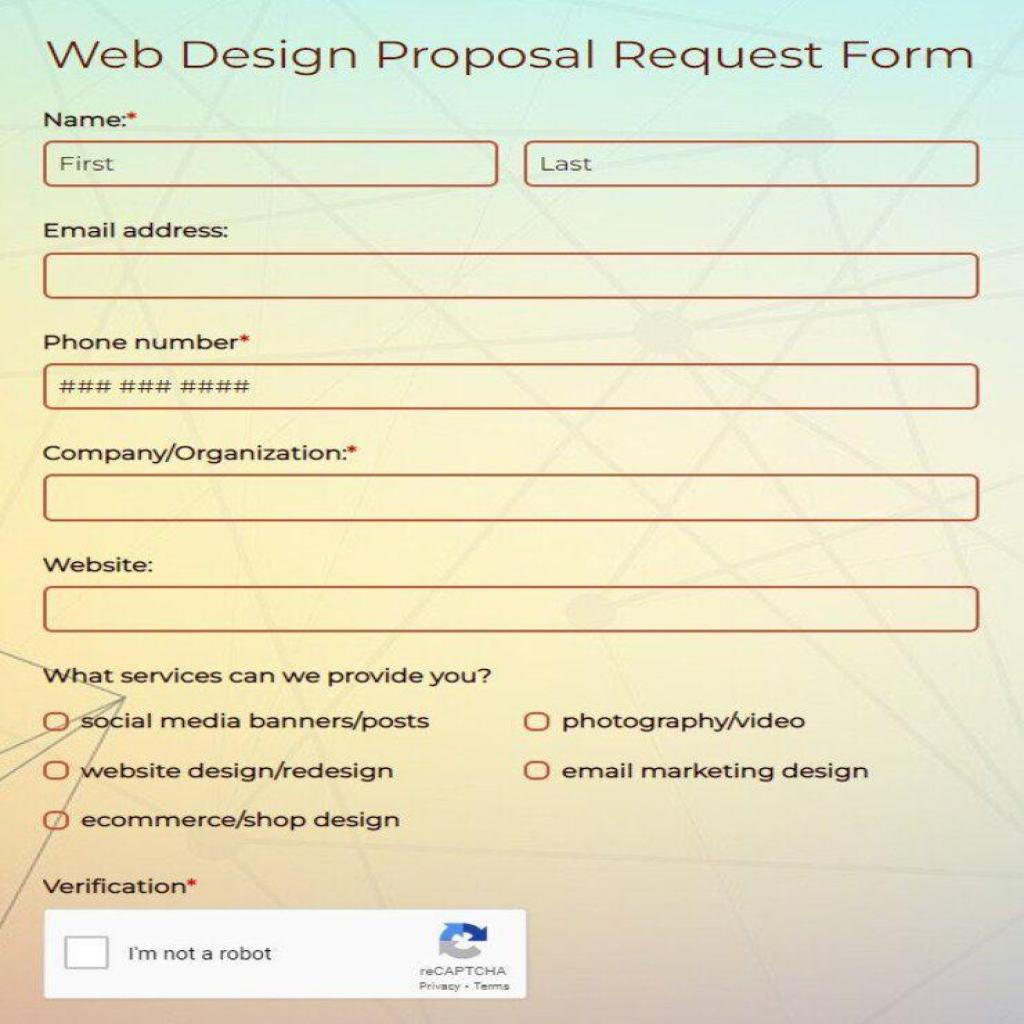checkbox: (65, 938, 112, 970), (40, 706, 72, 738), (39, 757, 73, 785), (38, 809, 74, 834), (520, 710, 552, 735), (520, 759, 552, 783)
input: (46, 365, 980, 413), (46, 474, 984, 519), (43, 254, 984, 297), (48, 590, 974, 632), (523, 142, 978, 190), (48, 146, 494, 189)
label: (559, 752, 879, 791), (79, 704, 433, 738), (82, 759, 400, 792), (37, 436, 360, 468), (74, 806, 402, 834), (563, 706, 812, 740), (33, 214, 235, 246), (34, 869, 210, 900), (43, 330, 250, 354), (127, 942, 284, 971), (39, 551, 155, 578), (39, 102, 140, 132)
